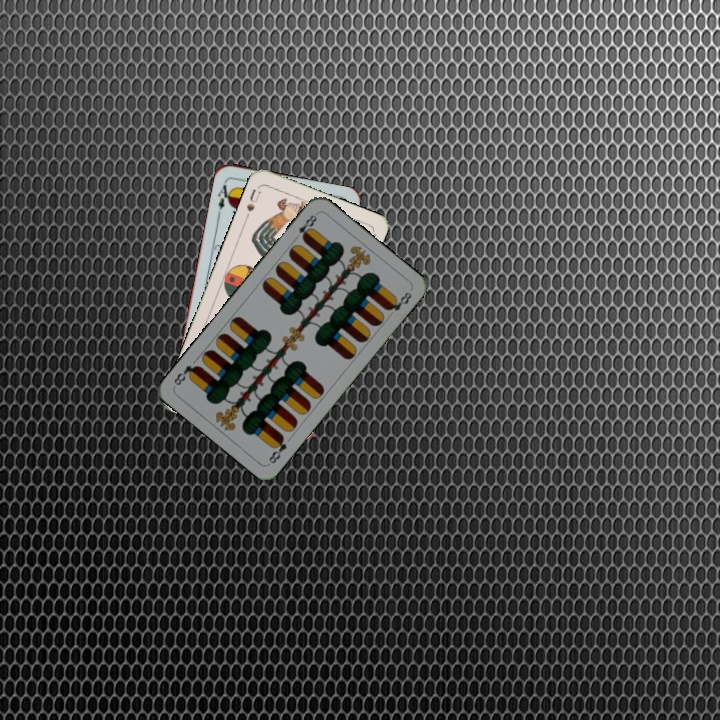E8: (290, 209, 320, 243), (265, 431, 290, 466)
EA: (213, 177, 235, 218)
SU: (242, 185, 263, 222)
